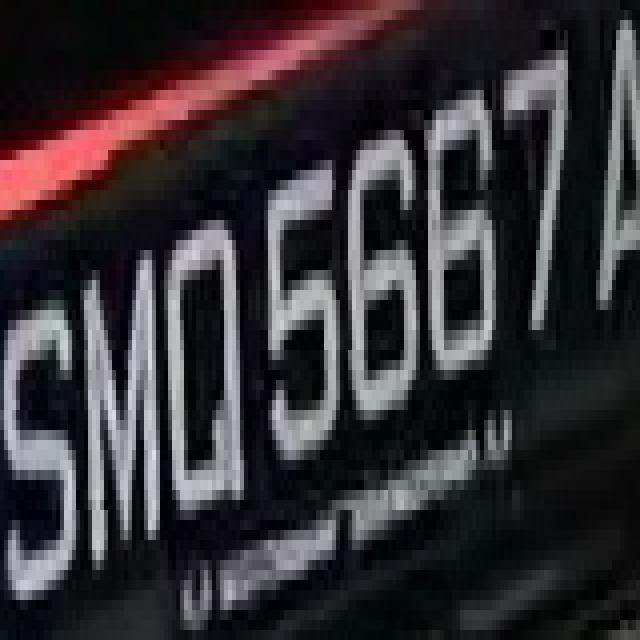5: (264, 150, 340, 490)
6: (404, 90, 504, 400), (344, 110, 416, 430)
7: (480, 50, 580, 350)
A: (580, 20, 640, 340)
M: (80, 230, 168, 560)
Q: (148, 200, 256, 550)
S: (0, 280, 84, 630)
